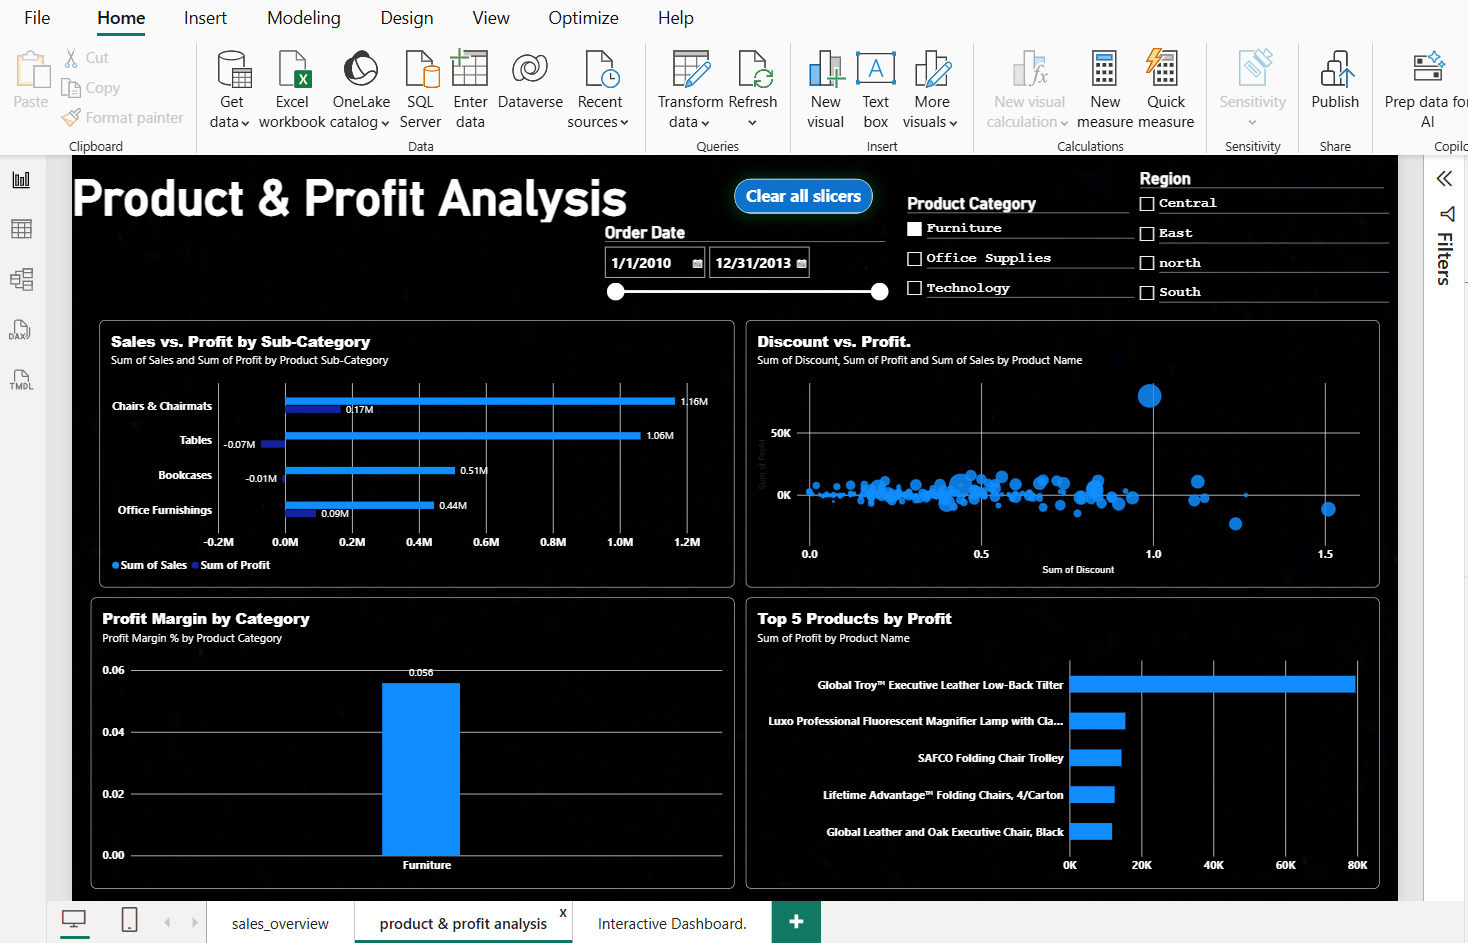

Layout of this report page (visuals, bound fields, positions):
{"tool":"powerbi","page":{"name":"product & profit analysis","canvas":[1920,1080],"ordinal":1},"visuals":[{"type":"clusteredBarChart","title":"Sales vs. Profit by Sub-Category","fields":{"Category":["Orders.Product Sub-Category"],"Y":["Sum(Orders.Sales)","Sum(Orders.Profit)"]},"box":[39.8,238.9,919.3,387.3],"z":0},{"type":"clusteredColumnChart","title":"Profit Margin by Category","fields":{"Category":["Orders.Product Category"],"Y":["Orders.Profit Margin %"]},"box":[27.1,640.6,932,421.7],"z":1},{"type":"scatterChart","title":"Discount vs. Profit.","fields":{"Category":["Orders.Product Name"],"Size":["Sum(Orders.Sales)"],"X":["Sum(Orders.Discount)"],"Y":["Sum(Orders.Profit)"]},"box":[975.4,238.9,917.5,387.3],"z":2},{"type":"slicer","fields":{"Values":["Orders.Product Category"]},"box":[1201.6,56.1,336.6,200.9],"z":3},{"type":"slicer","fields":{"Values":["Orders.Order Date"]},"box":[763.7,97.7,421.7,285.9],"z":4},{"type":"slicer","fields":{"Values":["Orders.Region"]},"box":[1538.2,19.9,369.2,219],"z":5},{"type":"actionButton","box":[959.1,34.4,200,50],"z":6},{"type":"textbox","title":"Product & Profit Analysis","box":[0,19.9,823.4,77.8],"z":7},{"type":"clusteredBarChart","title":"Top 5 Products by Profit","fields":{"Category":["Orders.Product Name"],"Y":["Sum(Orders.Profit)"]},"box":[975.4,640.6,917.5,421.7],"z":8}]}

Visuals, with their boxes on the page's 1920x1080 design canvas (x1, y1, x2, y2). These are canvas units, not pixel positions in the 1468x943 screenshot, which may show the page scaled, cropped or inside an application window:
"Sales vs. Profit by Sub-Category" clusteredBarChart: box=[40, 239, 959, 626]
"Profit Margin by Category" clusteredColumnChart: box=[27, 641, 959, 1062]
"Discount vs. Profit." scatterChart: box=[975, 239, 1893, 626]
slicer - Orders.Product Category: box=[1202, 56, 1538, 257]
slicer - Orders.Order Date: box=[764, 98, 1185, 384]
slicer - Orders.Region: box=[1538, 20, 1907, 239]
actionButton: box=[959, 34, 1159, 84]
"Product & Profit Analysis" textbox: box=[0, 20, 823, 98]
"Top 5 Products by Profit" clusteredBarChart: box=[975, 641, 1893, 1062]
